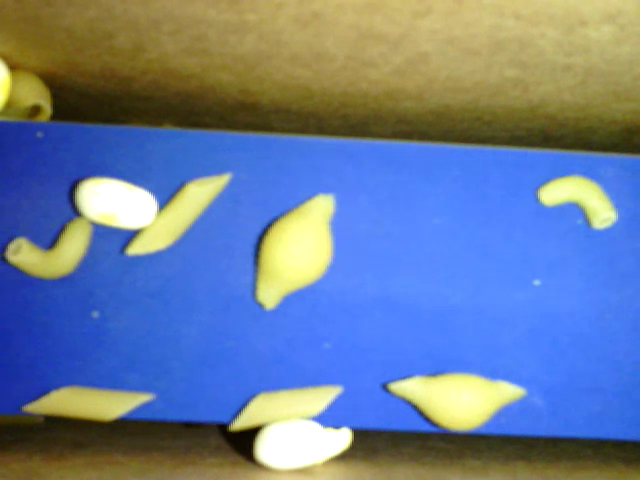elbow: (6, 214, 95, 282), (537, 172, 618, 234)
penne: (122, 172, 231, 258), (227, 385, 347, 434), (17, 387, 156, 421)
shell: (253, 190, 336, 318), (383, 371, 529, 431), (3, 70, 54, 125)
